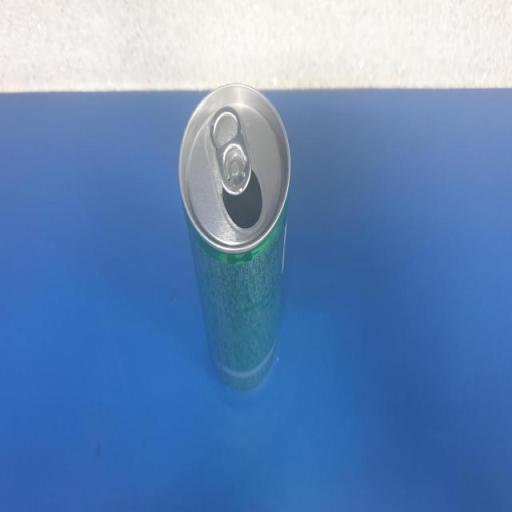metal: (168, 77, 303, 408)
